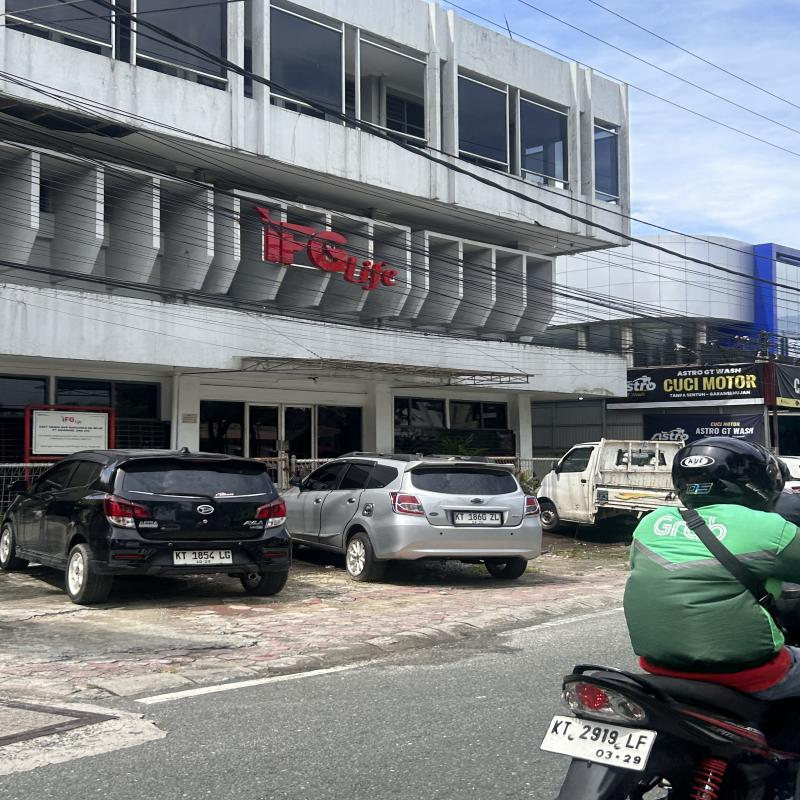license plate on a car: (173, 550, 233, 565), (453, 512, 500, 525)
